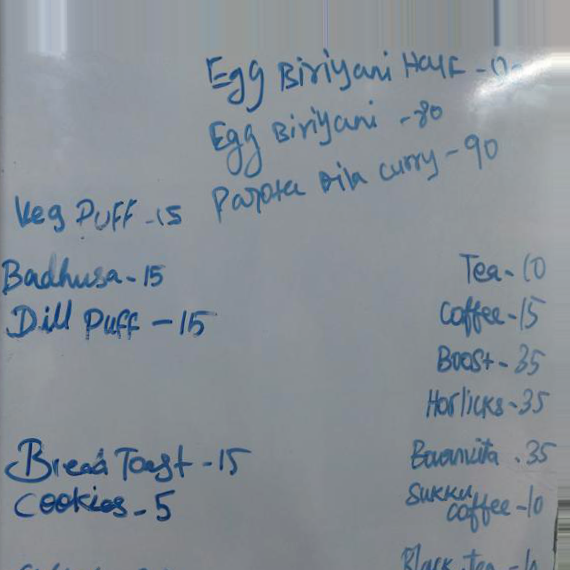Tea - 10: (453, 248, 552, 287)
badhusa -15: (1, 250, 182, 300)
boost - 35: (435, 339, 549, 382)
bournvita - 35: (409, 430, 556, 476)
bread toast - 15: (2, 435, 252, 484)
coffee - 15: (437, 290, 545, 337)
cookies - 5: (11, 484, 182, 526)
dill puff - 15: (1, 302, 226, 349)
egg briyani - 80: (207, 97, 390, 156)
egg briyani half -50: (204, 42, 537, 92)
horlicks - 35: (423, 383, 554, 428)
parotta - 90: (207, 158, 445, 215)
sukku coffee - 10: (404, 480, 546, 539)
veg puff - 15: (12, 194, 191, 236)
